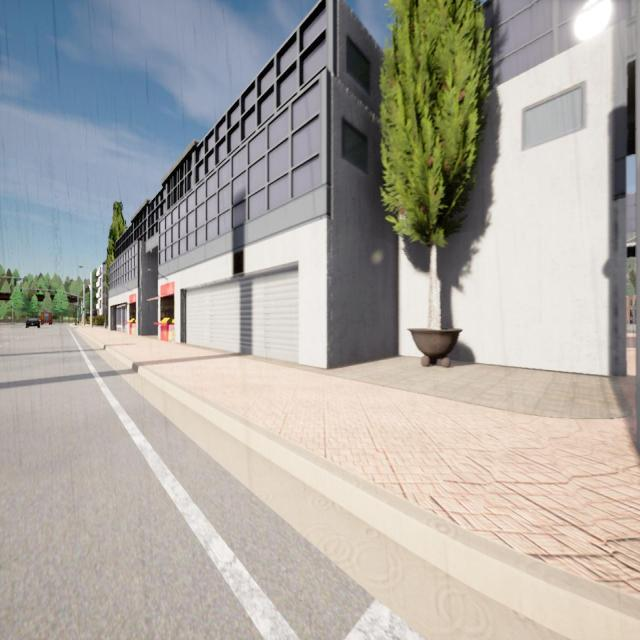Vehicle: (40, 311, 52, 325), (26, 317, 40, 328)
traffic_light: (14, 278, 16, 286), (20, 289, 22, 294), (37, 290, 39, 294), (55, 290, 57, 294), (83, 308, 85, 311)
